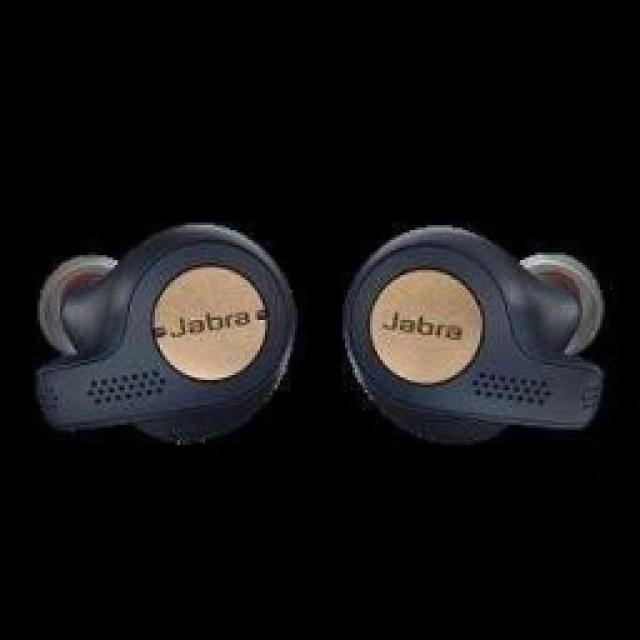headphones: (30, 218, 608, 448)
